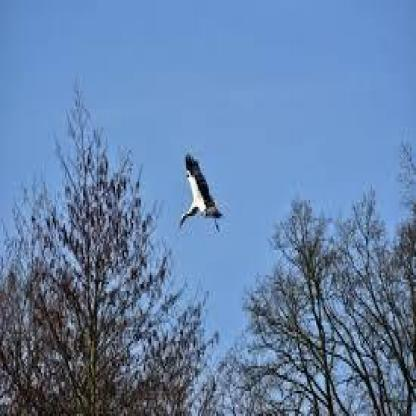bird: (159, 133, 259, 245)
